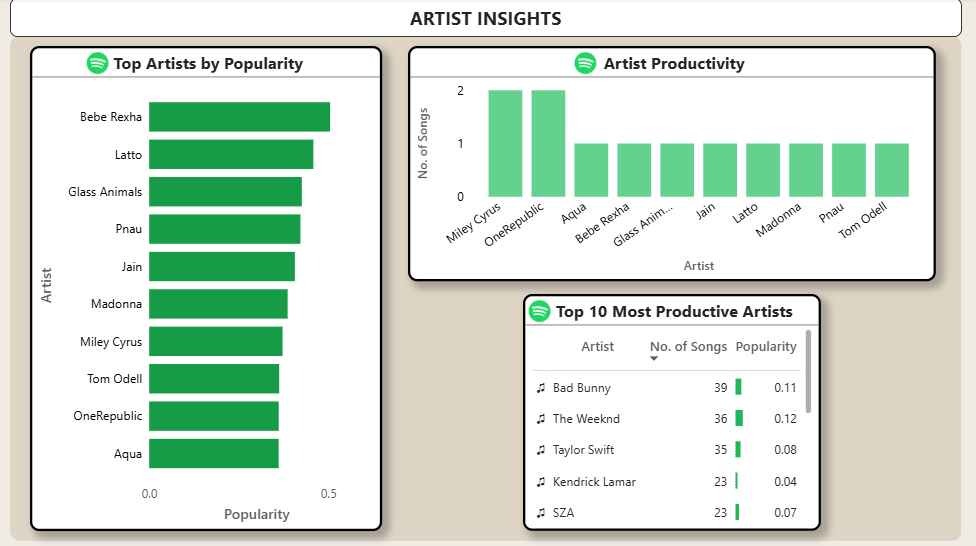

This screenshot's page, from the dashboard's own definition file:
{"tool":"powerbi","page":{"name":"Artist Insights","canvas":[1280,720],"ordinal":2},"visuals":[{"type":"shape","box":[15.8,50.4,1245.6,661],"z":0},{"type":"clusteredBarChart","title":"Top Artists by Popularity","fields":{"Category":["Sheet1.artist"],"Y":["Avg(Sheet1.popularity_score)"]},"box":[41.8,63.4,460.8,635],"z":1000},{"type":"tableEx","title":"Top 10 Most Productive Artists","fields":{"Values":["FINAL DATASET.Icon","Sheet1.artist","Sheet1.unique_song","Avg(Sheet1.popularity_score)"]},"box":[686.8,388.1,390.2,309.6],"z":1000,"group":"g1"},{"type":"clusteredColumnChart","title":"Artist Productivity","fields":{"Category":["Sheet1.artist"],"Y":["CountNonNull(Sheet1.unique_song)"]},"box":[536.8,63.3,690.9,308.3],"z":2000},{"type":"image","box":[692,396.6,33.1,29.3],"z":2000,"group":"g1"},{"type":"group","id":"g1","title":"Group 1","box":[686.8,388.1,389.5,309.7],"z":3000},{"type":"image","box":[751.5,70.2,35.8,28.9],"z":4000},{"type":"image","box":[113.8,70.6,33.1,28.8],"z":5000},{"type":"textbox","box":[15.1,0,1245.6,50.9],"z":6000}]}

Visuals, with their boxes in screenshot pixels (x1, y1, x2, y2), scaled from the page's 1280x720 canvas onto the 976x546 screenshot:
shape: 12 38 962 539
"Top Artists by Popularity" clusteredBarChart: 32 48 383 530
"Top 10 Most Productive Artists" tableEx: 524 294 821 529
"Artist Productivity" clusteredColumnChart: 409 48 936 282
image: 528 301 553 323
"Group 1" group: 524 294 821 529
image: 573 53 600 75
image: 87 54 112 75
textbox: 12 0 961 39
